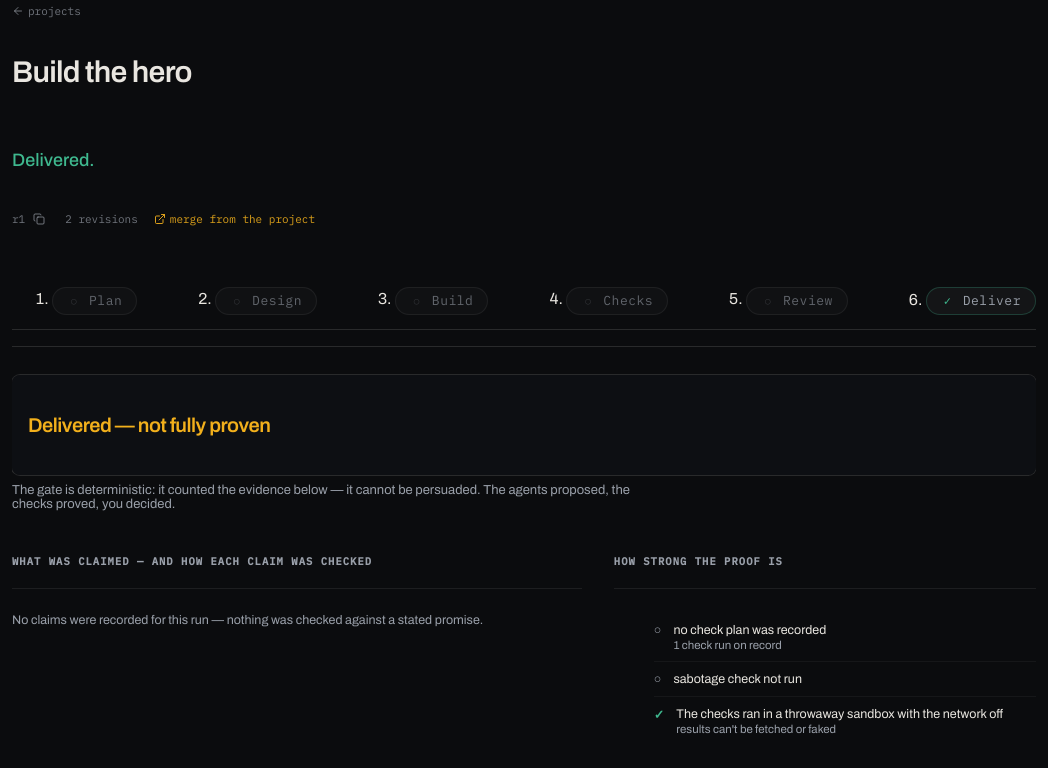
Test: RunWorkbench › a sealed run leads with the verdict — the stage opens only from the rail
This screenshot has width=1048, height=768.
After-action first: once sealed, no agent stage section until a chip is clicked.
Click the button "✓ Deliver". click: click(981, 301)
box: [926,287,1036,315]
(page scrolled)
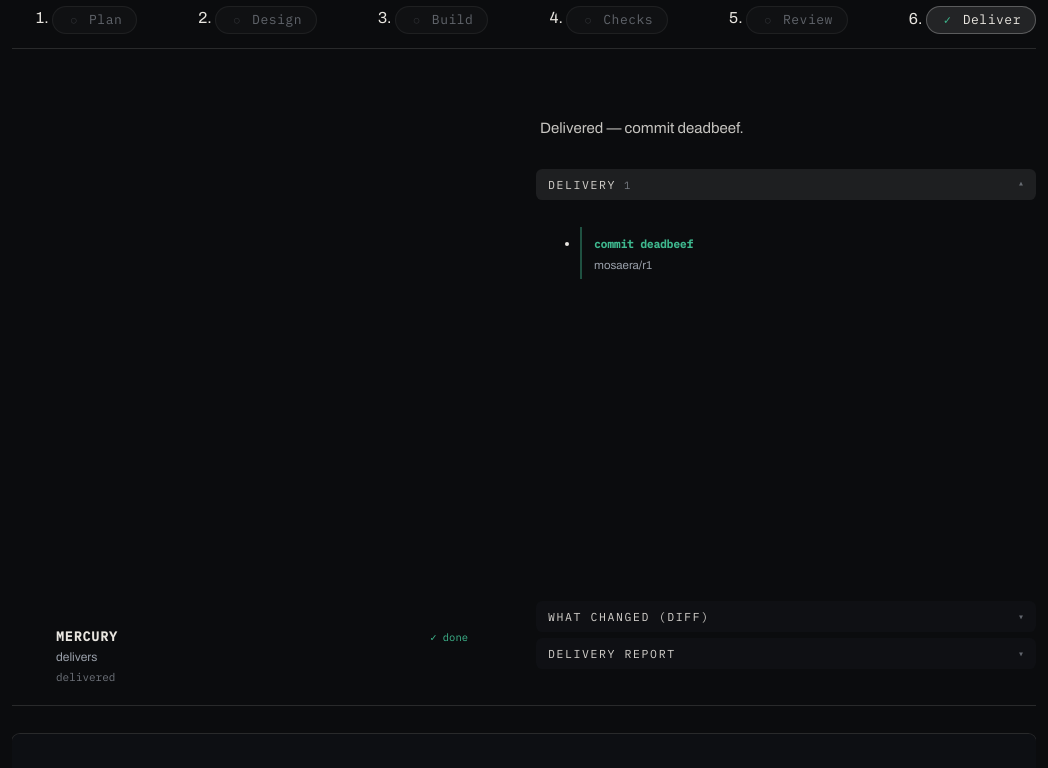
Expected: the element named "Mercury's work" is shown, [536,101,1036,669]
